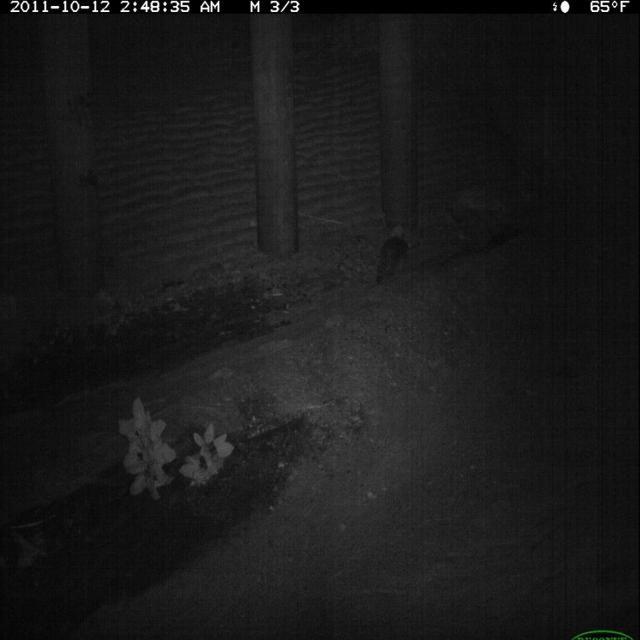raccoon: (371, 231, 415, 291)
